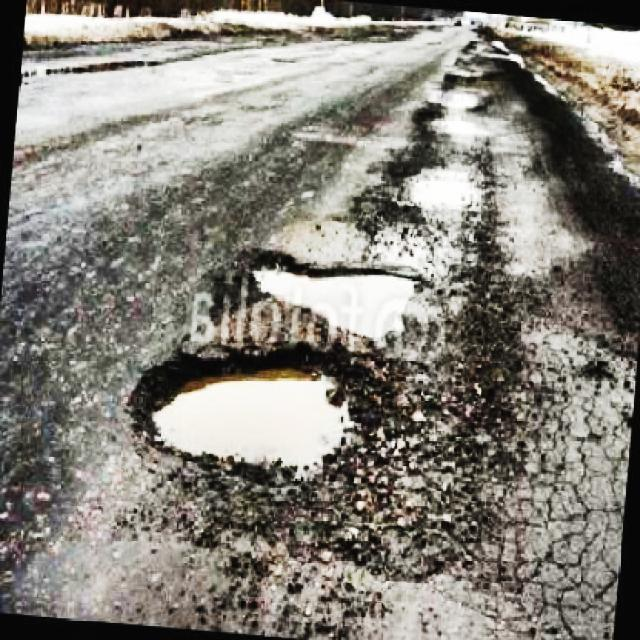pothole: (121, 331, 462, 574), (249, 234, 440, 351), (385, 140, 497, 249), (412, 83, 491, 143)
